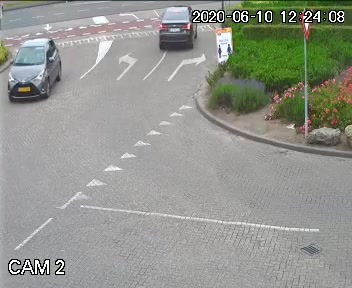car: (0, 27, 63, 107), (154, 6, 196, 54)
